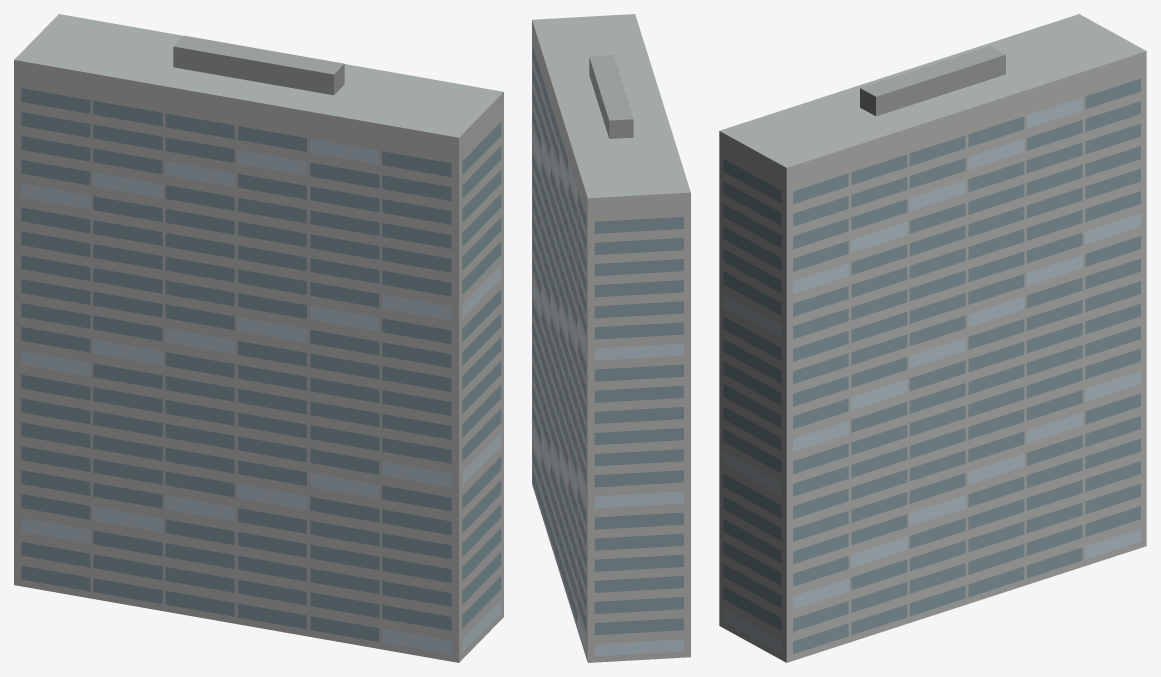
The model's file is fallback-gwanak-dream-town-107.glb.
3 views of the same model, side by side, from view 1: azimuth 30°, elevation 25°; view 2: azimuth 150°, elevation 25°; view 3: azimuth 270°, elevation 25° (orthographic). The views are drawn at different scales.
Visible parts, largest first — view 1: fallback-gwanak-dream-town-107; view 2: fallback-gwanak-dream-town-107; view 3: fallback-gwanak-dream-town-107.
Part boxes in pixels (x1,y1,x2,y2): fallback-gwanak-dream-town-107: [14, 14, 503, 662]; fallback-gwanak-dream-town-107: [532, 14, 690, 662]; fallback-gwanak-dream-town-107: [719, 14, 1146, 662].
Size of the model in its own units: 40.42 by 63 by 47.44.
